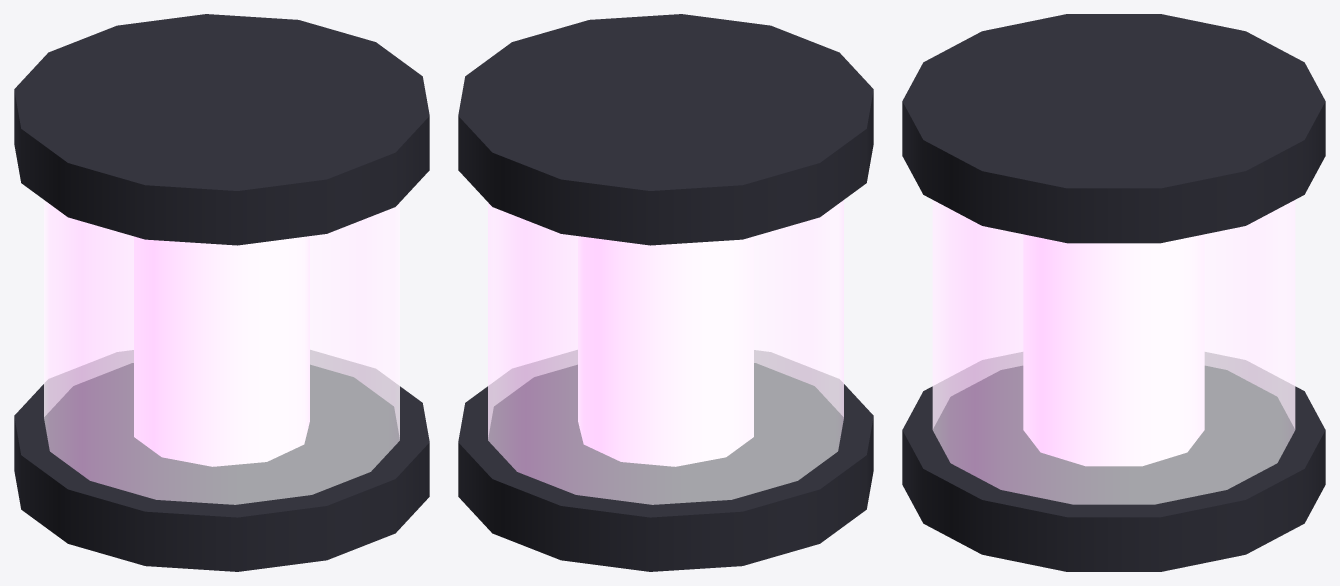
The model's file is item_core.glb.
3 views of the same model, side by side, from view 1: azimuth 30°, elevation 25°; view 2: azimuth 150°, elevation 25°; view 3: azimuth 270°, elevation 25° (orthographic).
Visible parts, largest first — view 1: item_core; view 2: item_core; view 3: item_core.
Boxes of the visible parts, x1,y1,x2,y2 form: item_core: [14, 14, 429, 571]; item_core: [458, 14, 873, 571]; item_core: [902, 14, 1325, 571].
Size of the model in its own units: 0.273 by 0.28 by 0.28.
